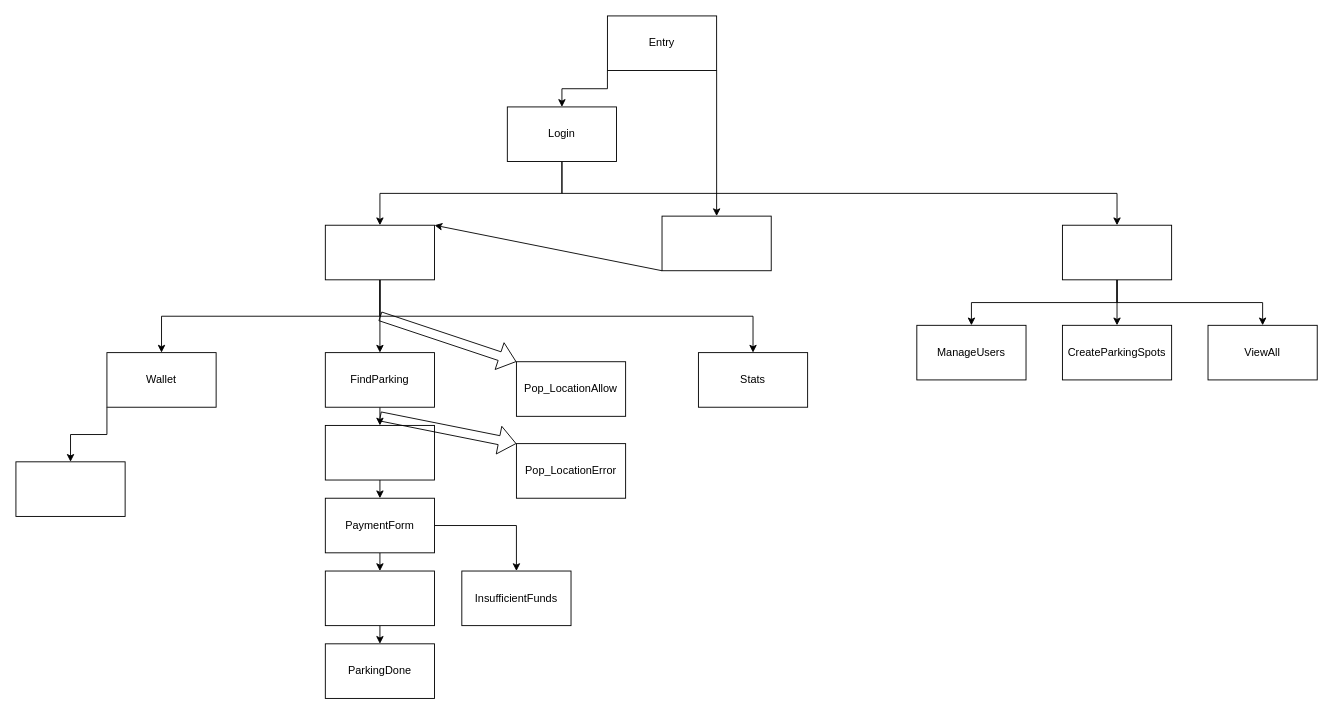
Image size: 1333x714. Some labels were removed from this diagram. The centre of each missing label's shape, as x and y in pixels:
"AddFunds" belongs at point (70, 488).
"AdminWelcome" belongs at point (1117, 252).
"PaymentDone" belongs at point (379, 598).
"PaymentOptions" belongs at point (379, 452).
"Register" belongs at point (716, 243).
"UserWelcome" belongs at point (379, 252).
